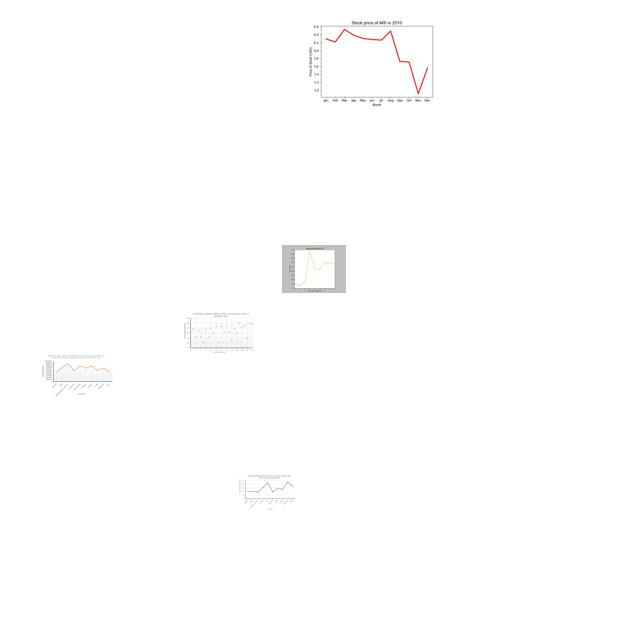Graph: (303, 7, 447, 115), (40, 353, 114, 397), (282, 245, 346, 293), (183, 312, 254, 354), (238, 474, 296, 511)
